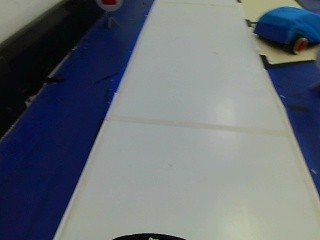car: (248, 4, 318, 56)
